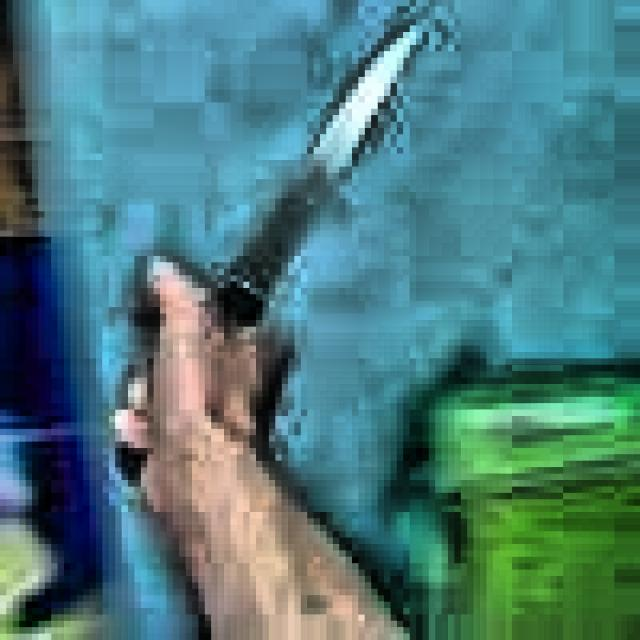knife: (120, 28, 419, 484)
